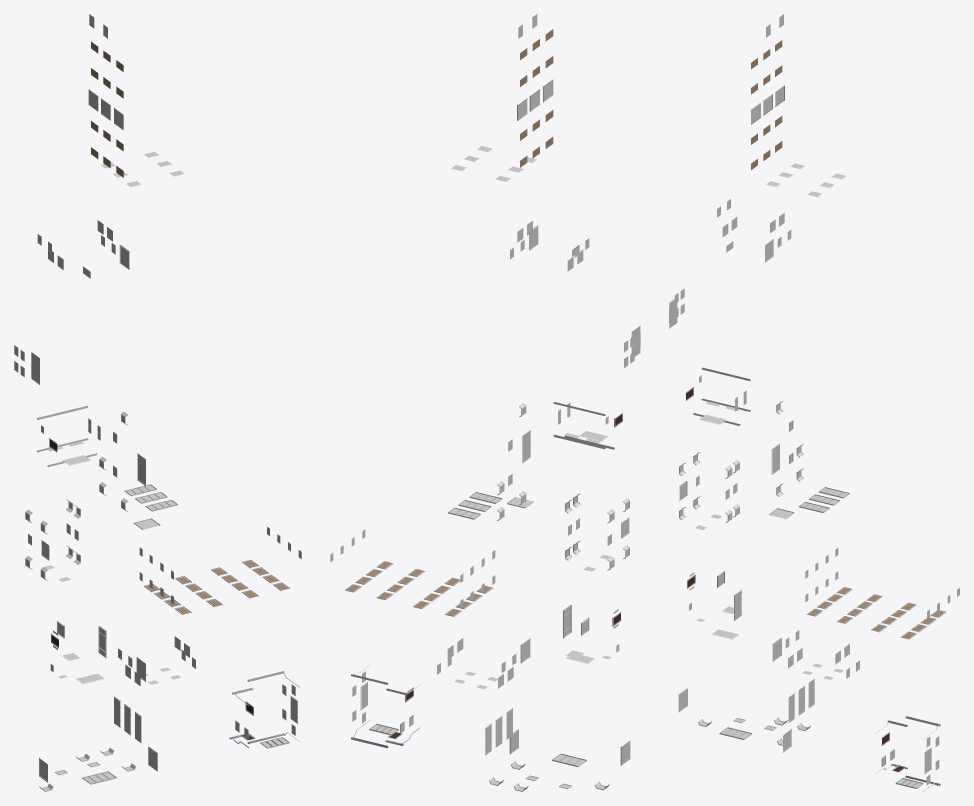
3 renders of one model, left to right at view 1: azimuth 30°, elevation 25°; view 2: azimuth 150°, elevation 25°; view 3: azimuth 330°, elevation 25°, orthographic. The views are drawn at different scales.
Visible parts, largest first — view 1: SM_000281.001; view 2: SM_000281.001; view 3: SM_000281.001.
Boxes of the visible parts, bbox=[...] form: SM_000281.001: bbox=[14, 14, 301, 791]; SM_000281.001: bbox=[330, 14, 640, 791]; SM_000281.001: bbox=[669, 14, 959, 791].
Bounding box in the file's own units: 41.92 × 112 × 10.69.
